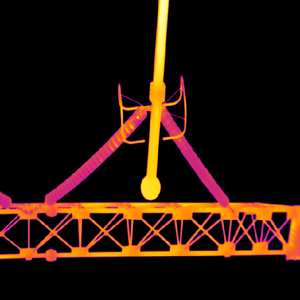insulator: (44, 104, 147, 205), (159, 105, 229, 207)
